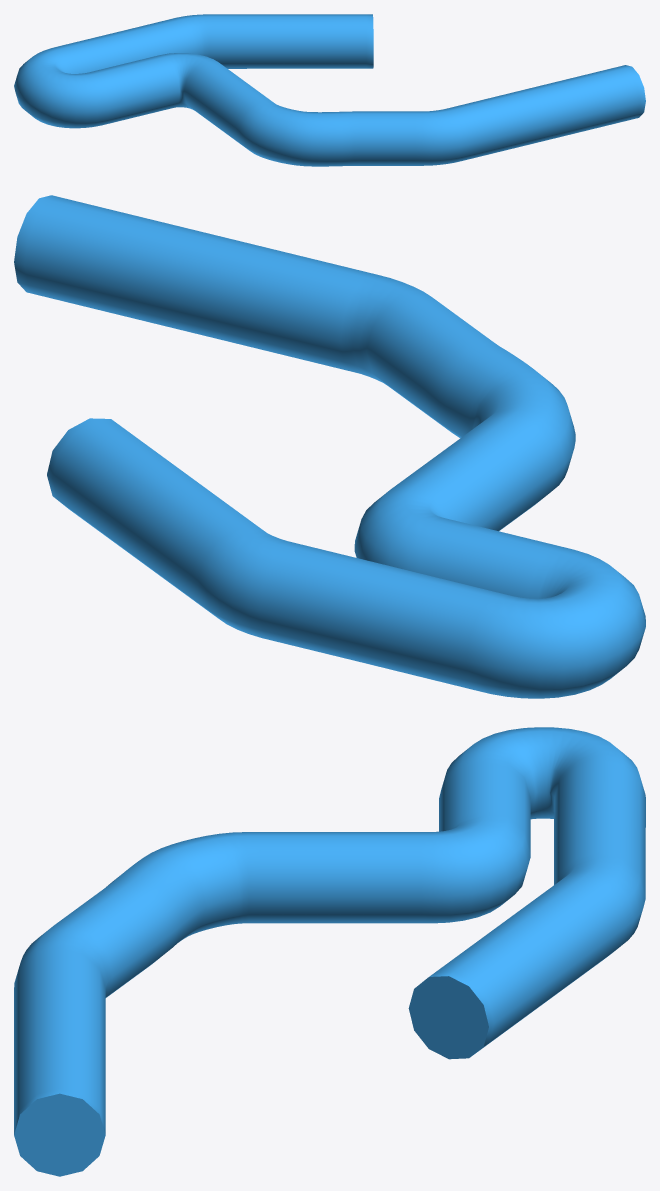
Rendered from Spline Mesh (1).fbx.
3 views of the same model, one above another, from view 1: azimuth 30°, elevation 25°; view 2: azimuth 150°, elevation 25°; view 3: azimuth 270°, elevation 25° (orthographic). The views are drawn at different scales.
Parts seen in each view (by area): view 1: Spline Mesh (1); view 2: Spline Mesh (1); view 3: Spline Mesh (1).
Boxes of the visible parts, box(x1,y1,x2,y2) form: Spline Mesh (1): box(14, 14, 645, 166); Spline Mesh (1): box(14, 195, 645, 698); Spline Mesh (1): box(14, 727, 645, 1176).
Size of the model in its own units: 7877 by 800 by 5512.
